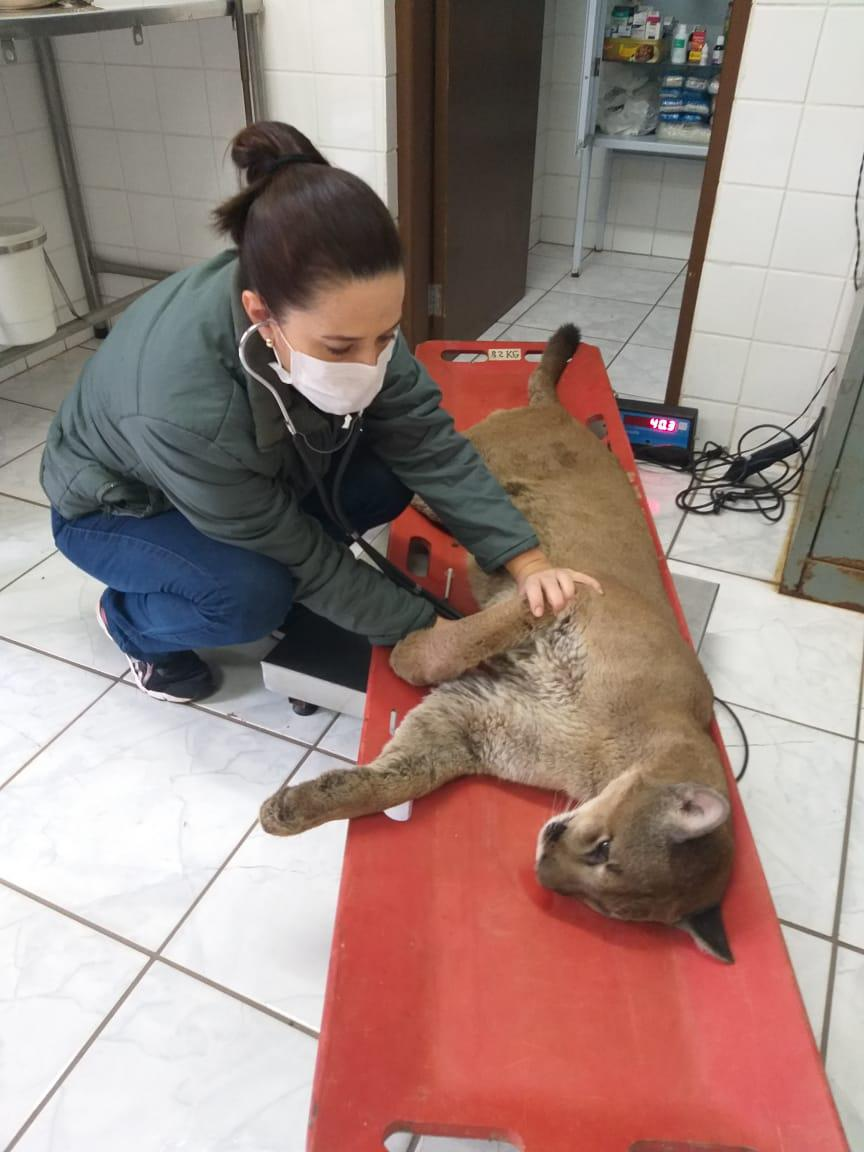OncaParda: (432, 321, 761, 989)
